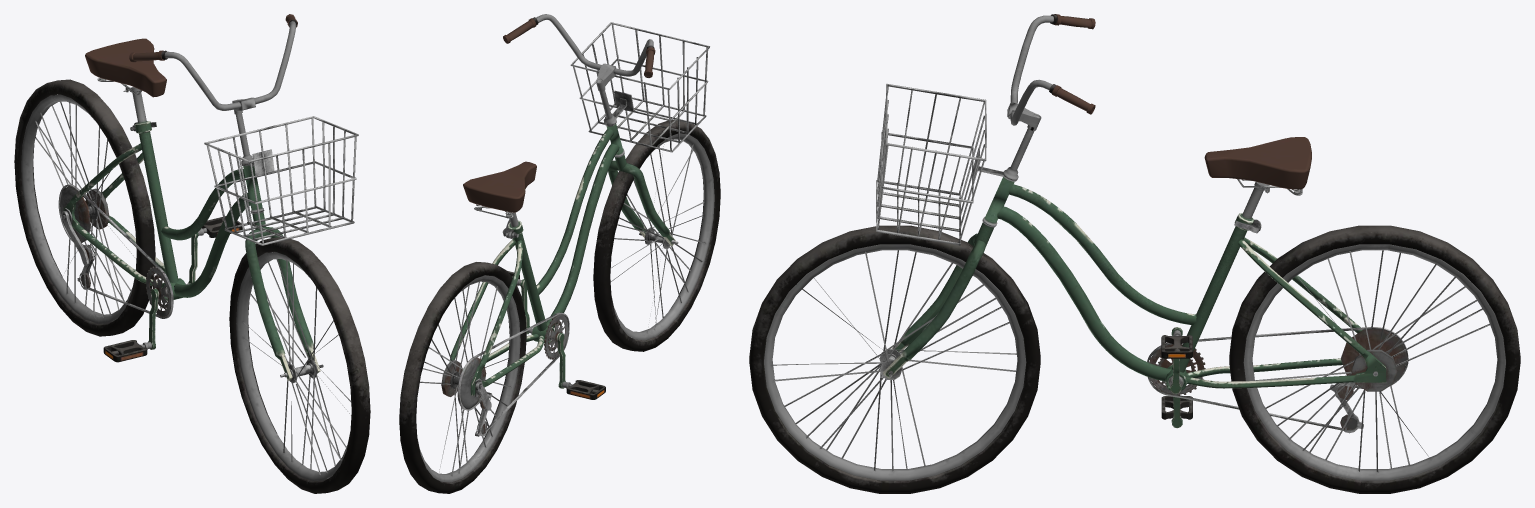
File: realbicycle.glb
The picture shows the model from 3 angles, left to right: view 1: azimuth 30°, elevation 25°; view 2: azimuth 150°, elevation 25°; view 3: azimuth 270°, elevation 25°; orthographic projection. The views are drawn at different scales.
Visible parts, largest first — view 1: Object_4; view 2: Object_4; view 3: Object_4.
Part boxes in pixels (left/top/right/bottom): Object_4: left=14, top=14, right=370, bottom=493; Object_4: left=399, top=14, right=720, bottom=493; Object_4: left=749, top=14, right=1520, bottom=493.
Size of the model in its own units: 0.4468 by 1.02 by 1.61.
Materials: 1 (1 with a texture image).
